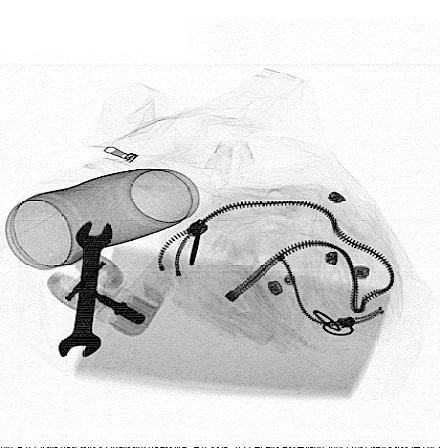Wrench: (55, 217, 115, 362)
